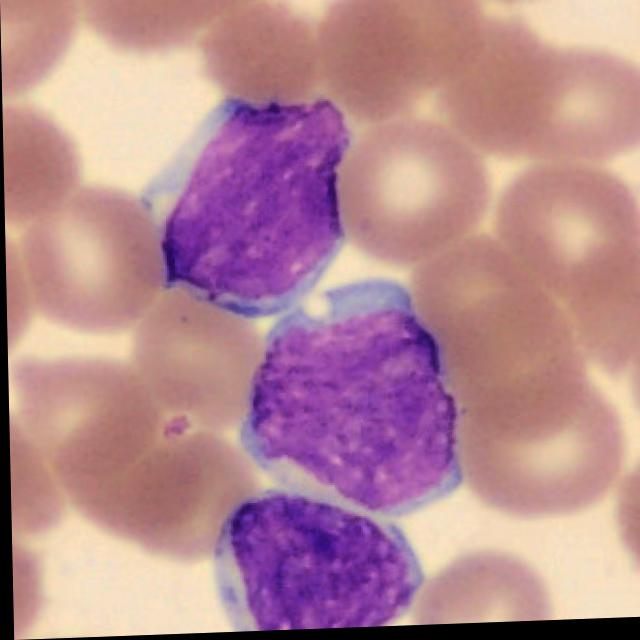Linfocito: (237, 281, 461, 519), (141, 100, 352, 319), (209, 491, 423, 634)
